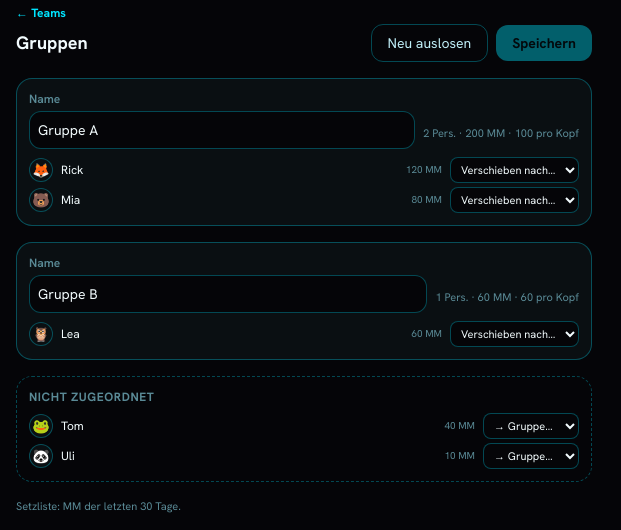
Test case: GroupEditor › moves, removes, adds, renames and saves
Expected: the field showing "Gruppe A" in the row of "200" is shown, [29, 111, 415, 149]
move Mia from A to B
Select "→ Gruppe B" in the dropdown named "Mia verschieben": (514, 200) [450, 187, 579, 213]
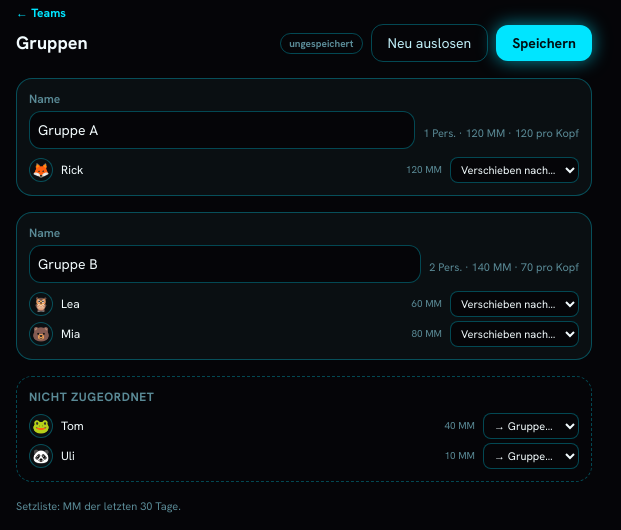
remove Lea from B
Select "Entfernen" in the dropdown named "Lea verschieben": (514, 304) [450, 291, 579, 317]
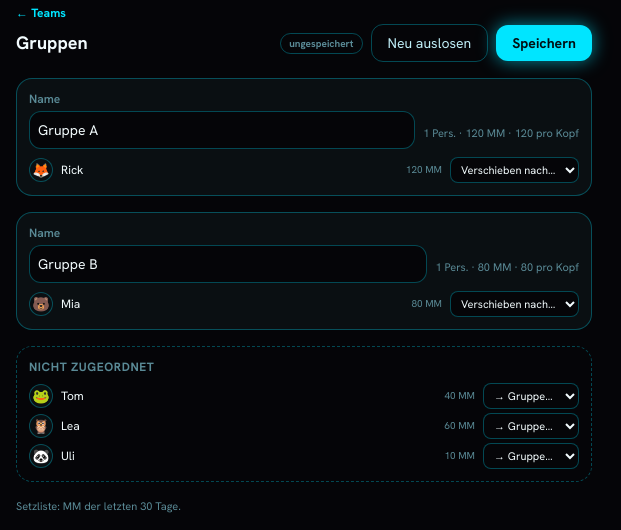
add Tom to A
Select "→ Gruppe A" in the dropdown named "Tom verschieben": (531, 396) [483, 383, 579, 409]
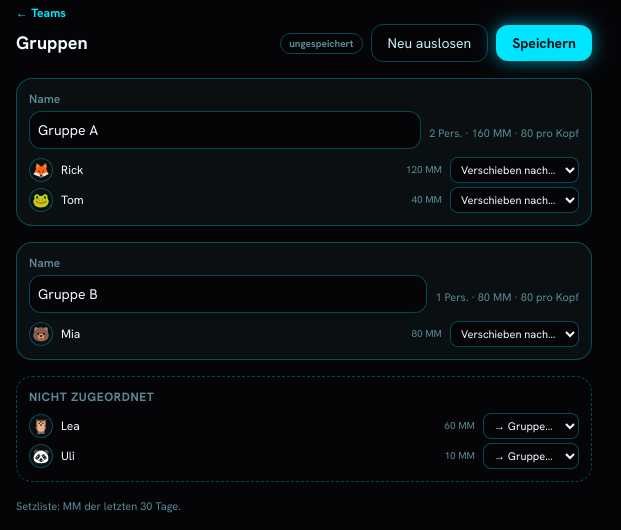
rename A
Replace the text in the field showing "Gruppe A" in the row of "160" with "Flitzer": (225, 130) [29, 111, 421, 149]
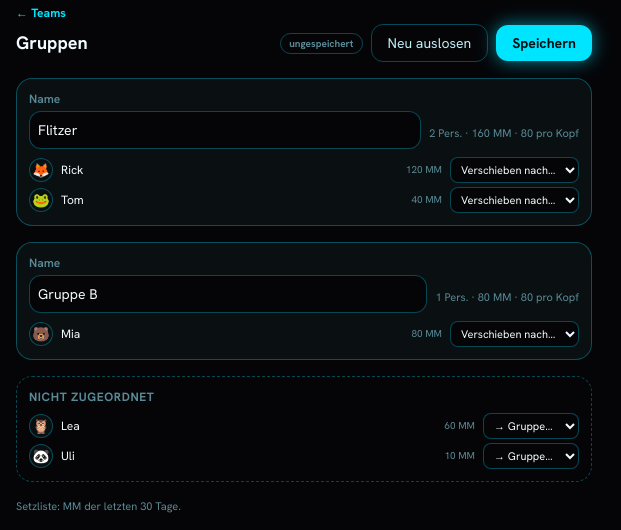
Now the text "ungespeichert" is shown, box [280, 32, 362, 54]
Click the button "Speichern": (544, 43) [496, 25, 592, 61]
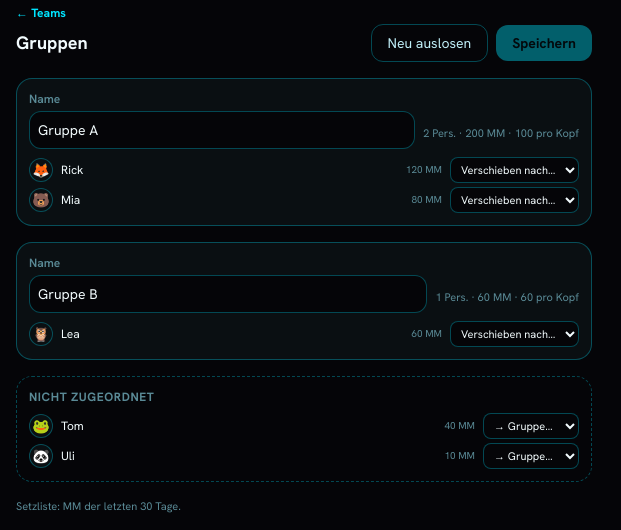
Now the text "ungespeichert" is gone
